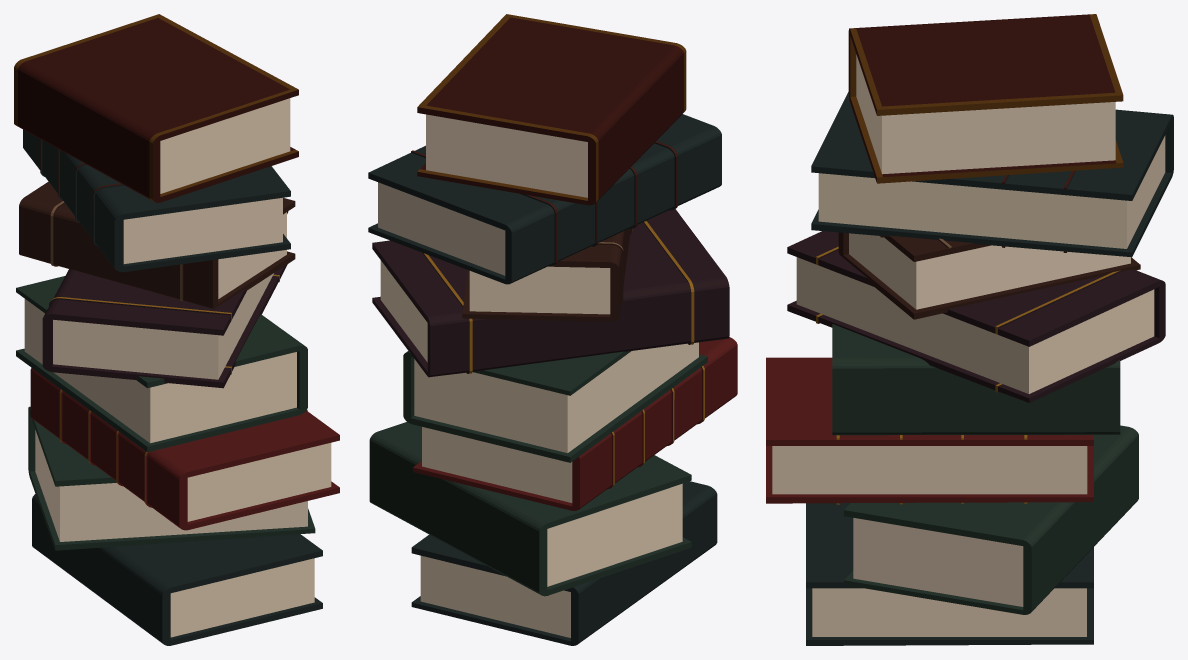
File: Buchstapel2.fbx
3 renders of one model, left to right at view 1: azimuth 30°, elevation 25°; view 2: azimuth 150°, elevation 25°; view 3: azimuth 270°, elevation 25°, orthographic. The views are drawn at different scales.
Parts seen in each view (by area): view 1: Buch1.021; view 2: Buch1.021; view 3: Buch1.021.
Boxes of the visible parts, x1,y1,x2,y2 form: Buch1.021: [14, 14, 339, 645]; Buch1.021: [368, 14, 737, 645]; Buch1.021: [766, 14, 1173, 645].
Bounding box in the file's own units: 106 × 169 × 116.
